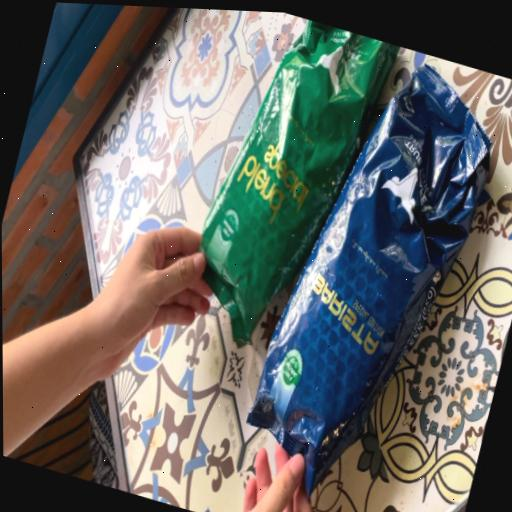cafe_hat: (248, 65, 490, 492)
cafe_xay: (201, 19, 400, 346)
